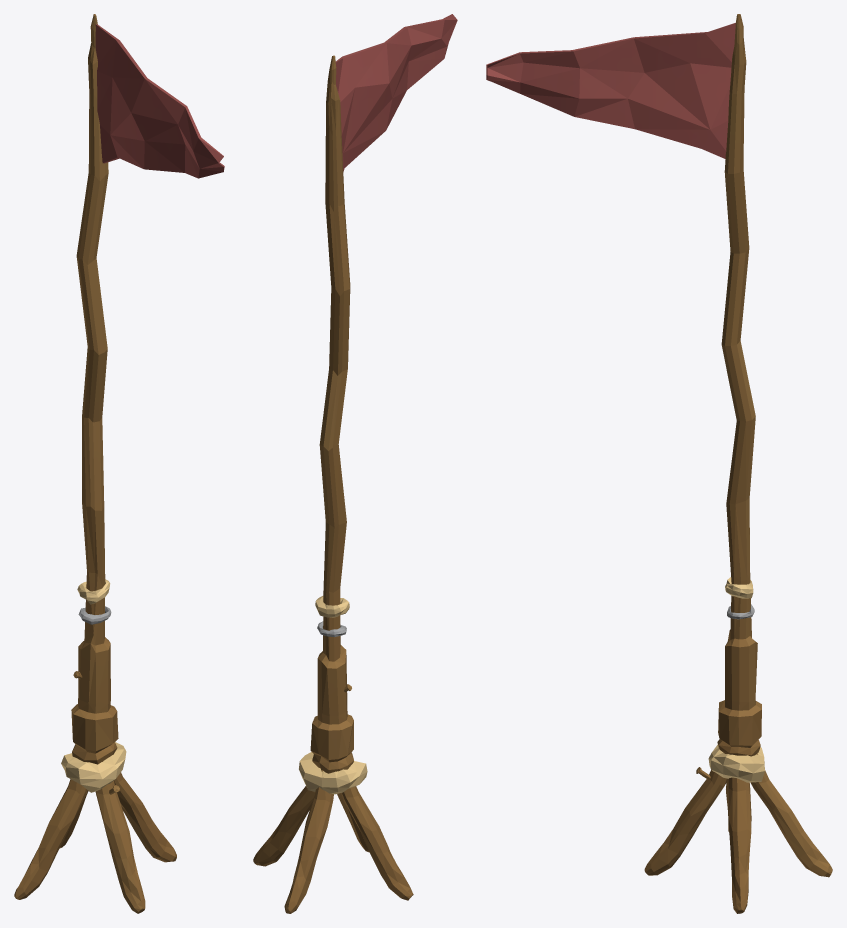
The model's file is flag_on_stick.obj.
The picture shows the model from 3 angles, left to right: view 1: azimuth 30°, elevation 25°; view 2: azimuth 150°, elevation 25°; view 3: azimuth 270°, elevation 25°; orthographic projection. The views are drawn at different scales.
Visible parts, largest first — view 1: pole_Material, flag_Material; view 2: pole_Material, flag_Material; view 3: pole_Material, flag_Material.
Part boxes in pixels (x1,y1,x2,y2): pole_Material: (14,14,176,913); flag_Material: (95,24,224,178); pole_Material: (253,55,413,913); flag_Material: (335,14,457,171); pole_Material: (644,14,832,913); flag_Material: (486,22,735,158).
Size of the model in its own units: 0.5535 by 2.8 by 1.02.
